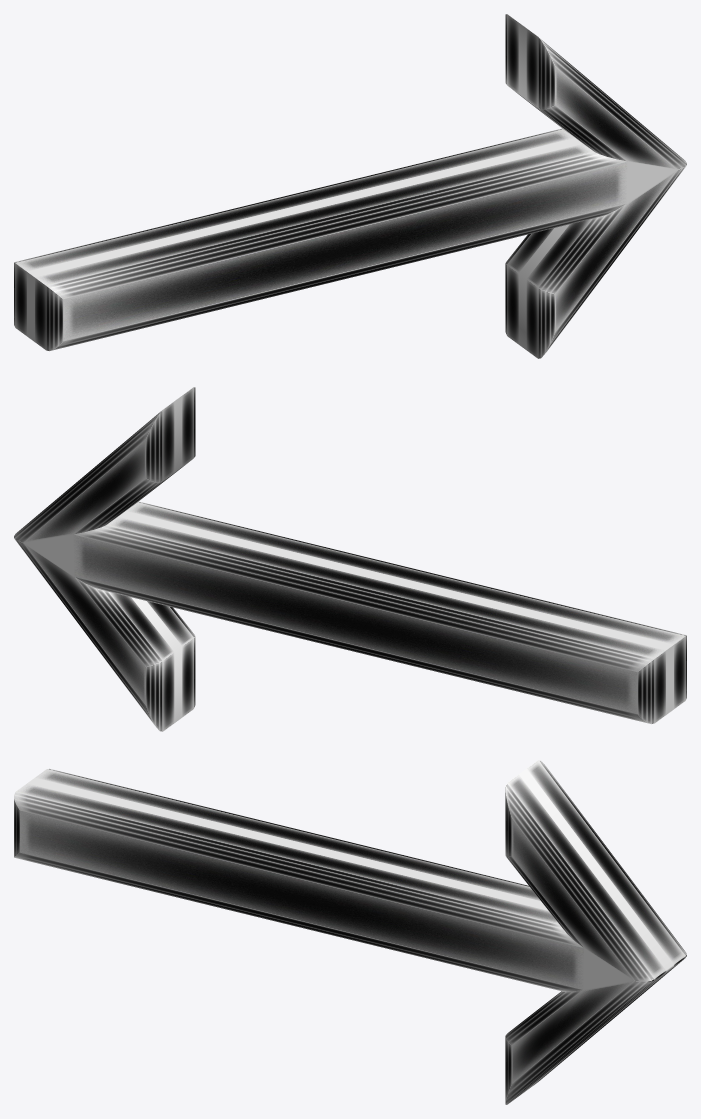
File: uxr-arrow.fbx
3 views of the same model, one above another, from view 1: azimuth 30°, elevation 25°; view 2: azimuth 150°, elevation 25°; view 3: azimuth 330°, elevation 25° (orthographic).
Parts seen in each view (by area): view 1: polymsh_WorldGridMaterial_0, polymsh_Material4_0; view 2: polymsh_WorldGridMaterial_0, polymsh_Material4_0; view 3: polymsh_WorldGridMaterial_0, polymsh_Material4_0.
Boxes of the visible parts, left/top/right/bottom form: polymsh_WorldGridMaterial_0: left=14, top=14, right=686, bottom=358; polymsh_Material4_0: left=27, top=23, right=677, bottom=349; polymsh_WorldGridMaterial_0: left=14, top=387, right=686, bottom=731; polymsh_Material4_0: left=23, top=396, right=673, bottom=722; polymsh_WorldGridMaterial_0: left=14, top=760, right=686, bottom=1104; polymsh_Material4_0: left=27, top=769, right=673, bottom=1094.
Size of the model in its own units: 9967 by 4800 by 1172.
Materials: 2 (1 with a texture image).
